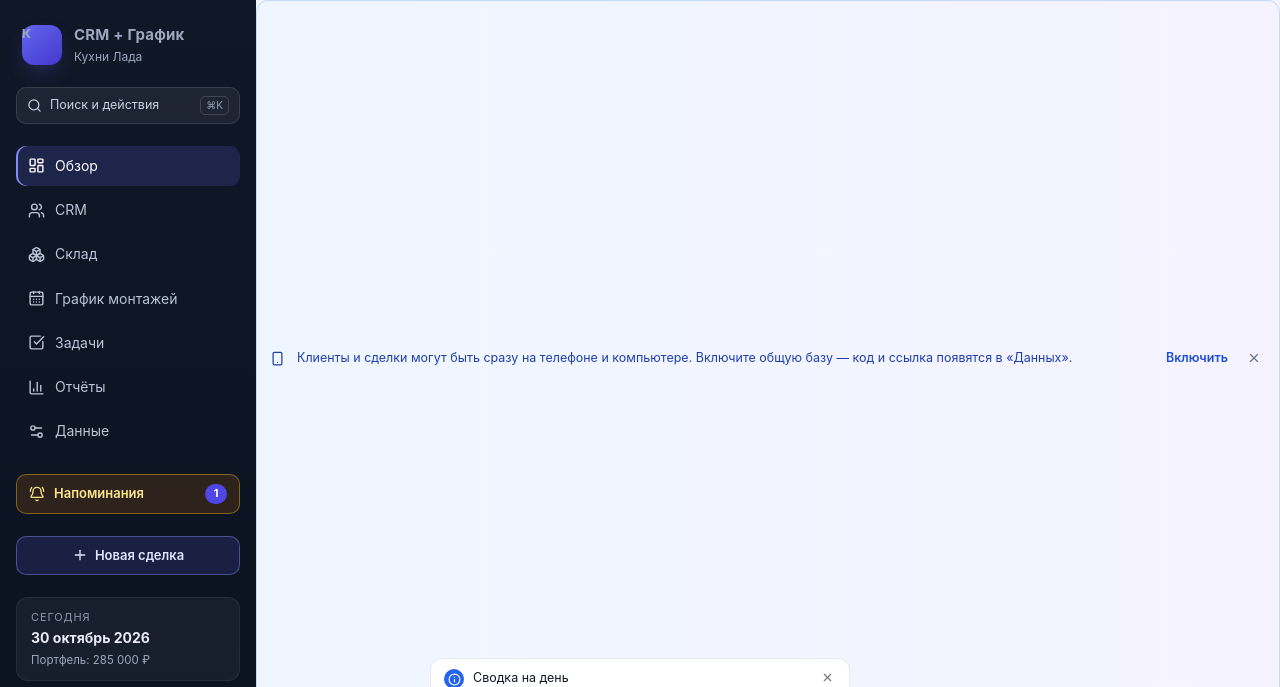
вход по паролю › без учётных записей приложение открывается сразу и предлагает их завести
The width and height of the screenshot is (1280, 687).
Expected: the navigation bar named "Разделы" is shown, [16, 146, 240, 452]
Step 1. Click the button "Данные" → point(128, 432), box [16, 411, 240, 452]
(page scrolled)
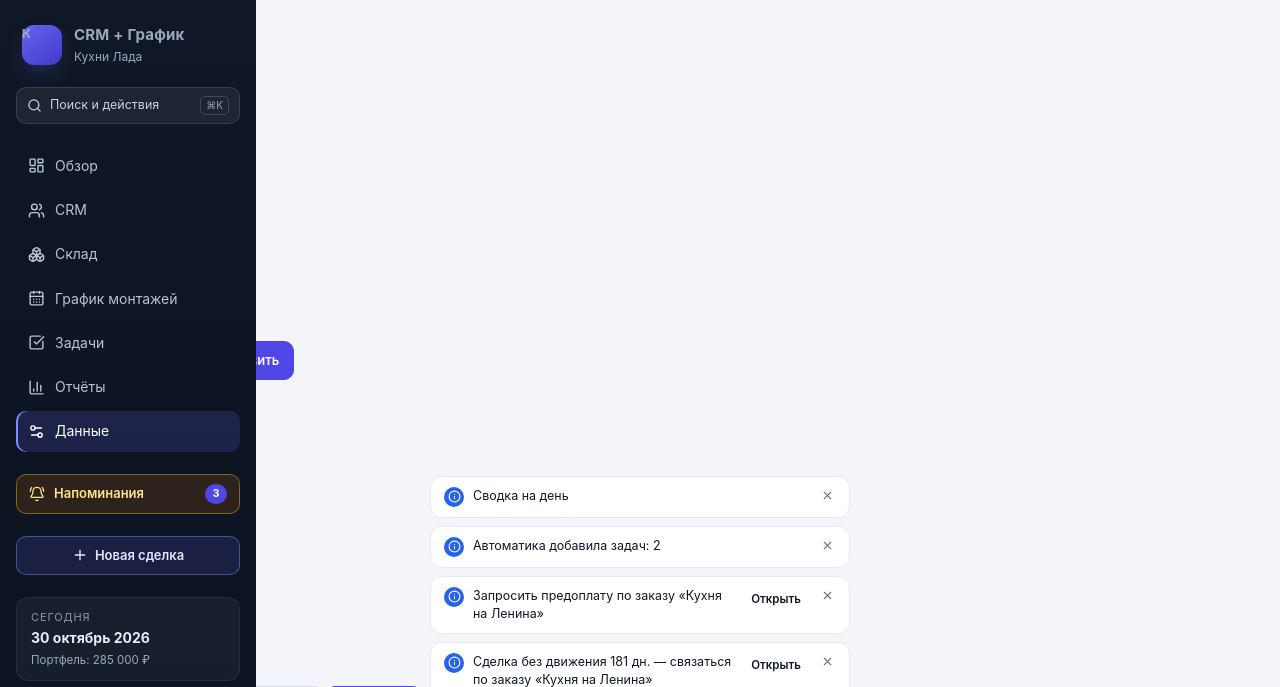
Expected: the button "Добавить" is shown, [180, 341, 294, 380]
